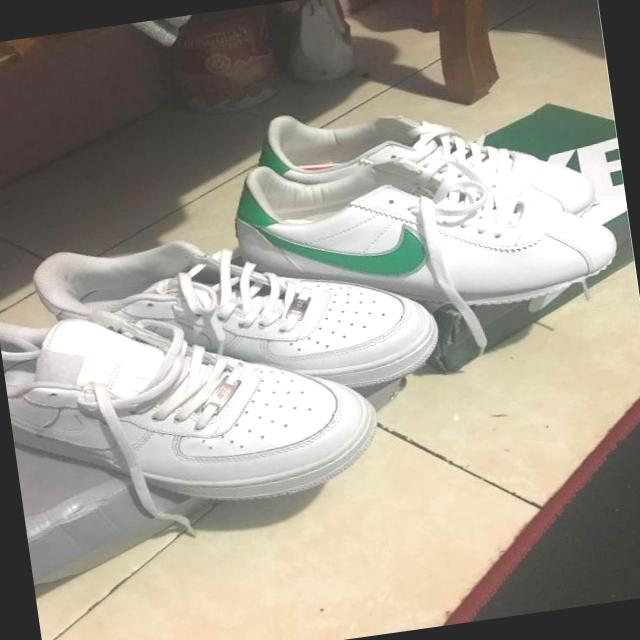nike_fake_airforce: (9, 192, 456, 432), (0, 269, 388, 534)
